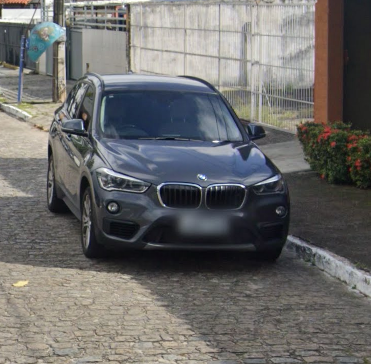car: (43, 69, 294, 262)
